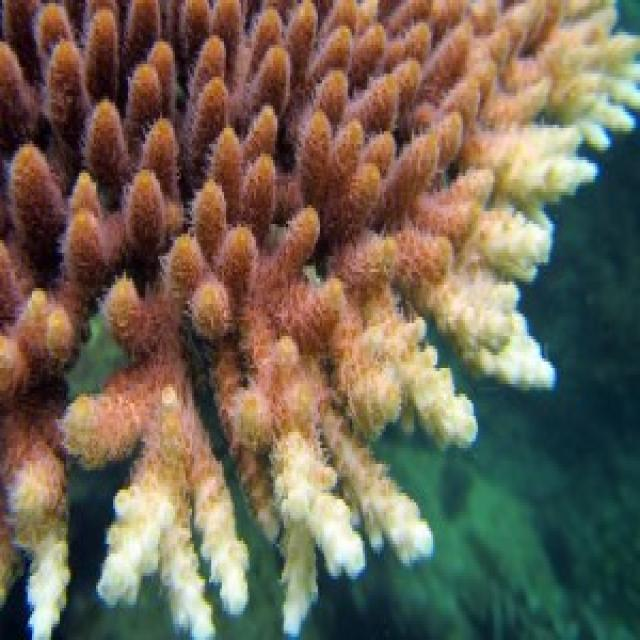Bleached: (274, 433, 432, 635), (108, 468, 248, 615), (349, 318, 475, 446), (436, 270, 554, 385), (16, 468, 69, 622), (490, 126, 596, 199), (477, 209, 547, 279)
Healthy: (1, 1, 511, 465)
